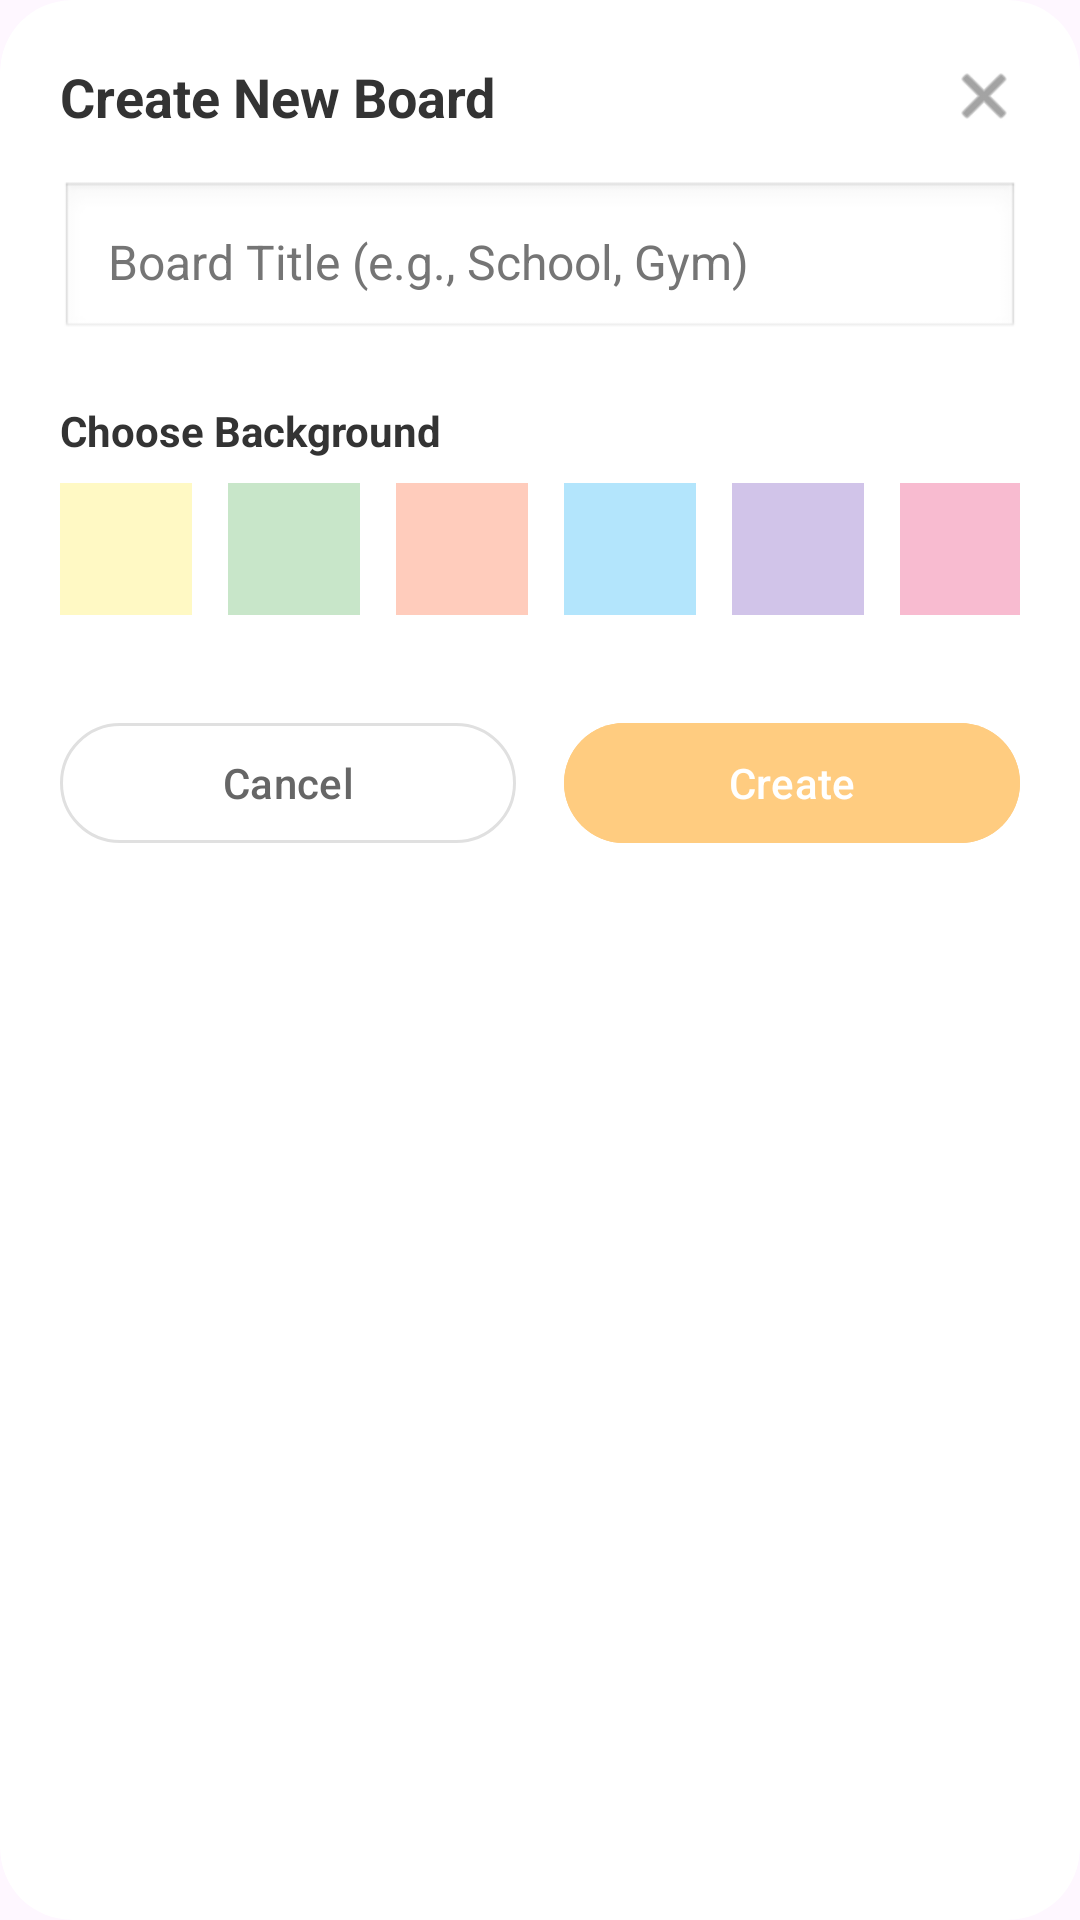

Point at icon controls on the screen. Image size 1080w x 1920h, points as [x,y].
close clear cancel: [984,96]
